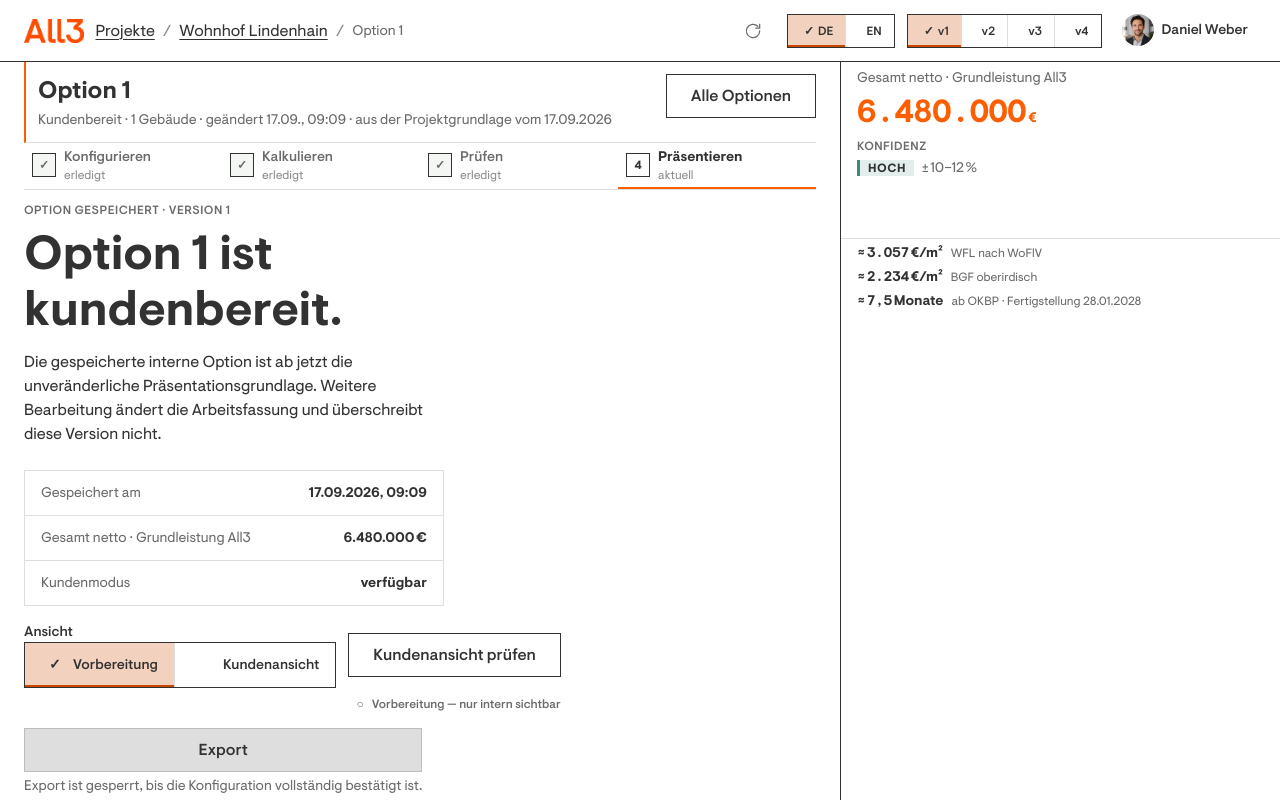
Гейт режима презентации — блокировка объясняет причину (правило 12) › nach dem Speichern der Option funktioniert der Wechsel
Click the radio button labelled "Kundenansicht" at (271, 664), box left=223, top=655, right=319, bottom=674
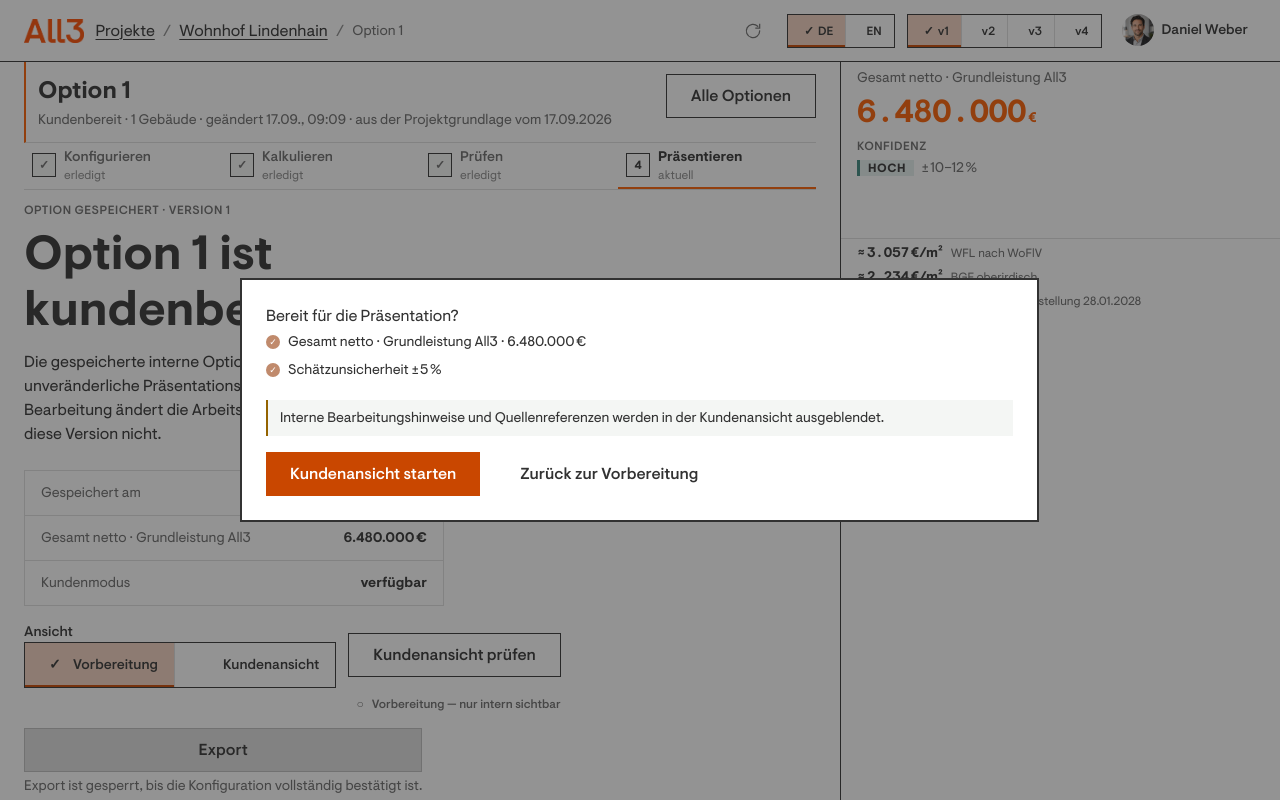
Click the button "Kundenansicht starten" at (374, 474), box left=266, top=452, right=481, bottom=496
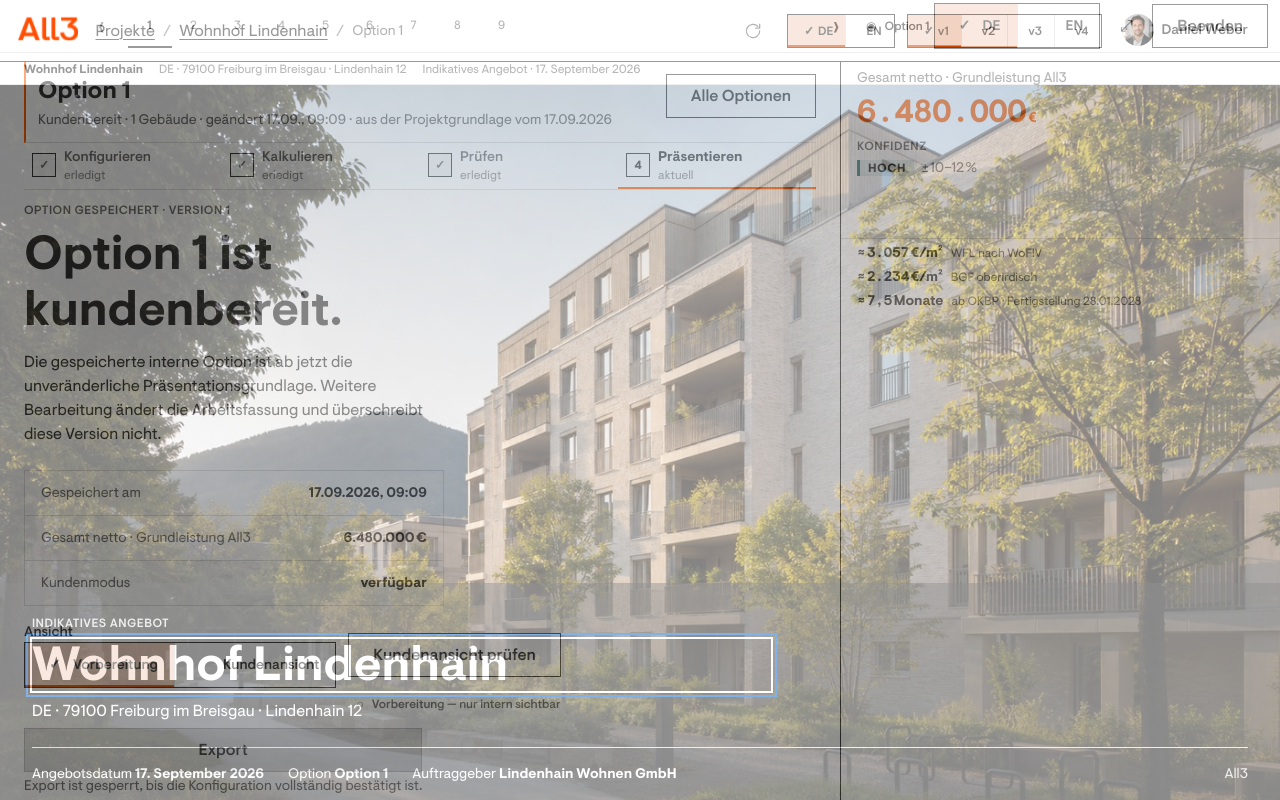
Now the heading "Bereit für die Präsentation" is gone
